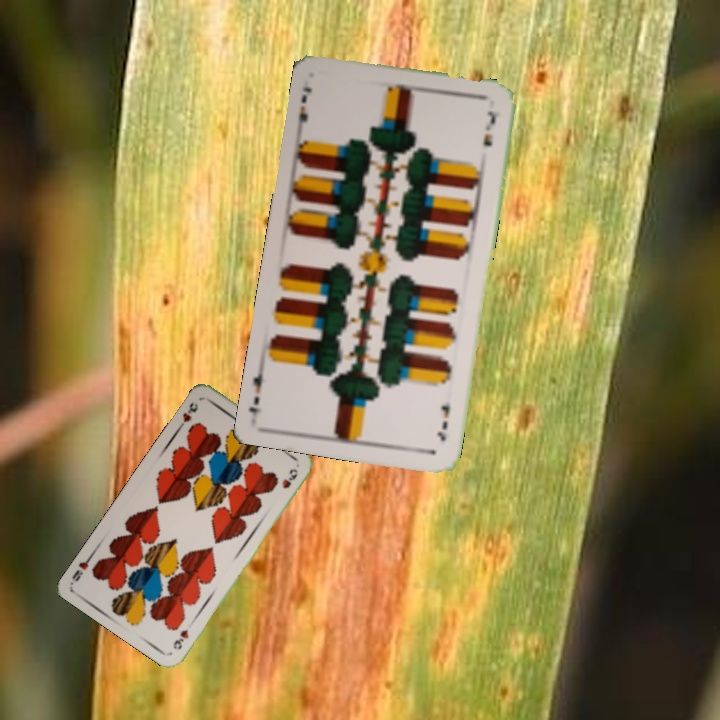E7: (292, 82, 315, 133), (433, 399, 452, 444)
H9: (175, 398, 201, 431), (169, 625, 192, 652)
